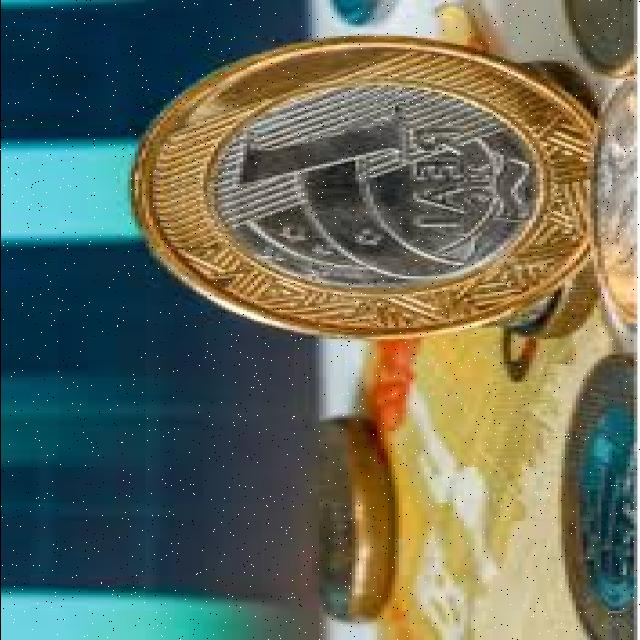1 real: (140, 42, 592, 336)
